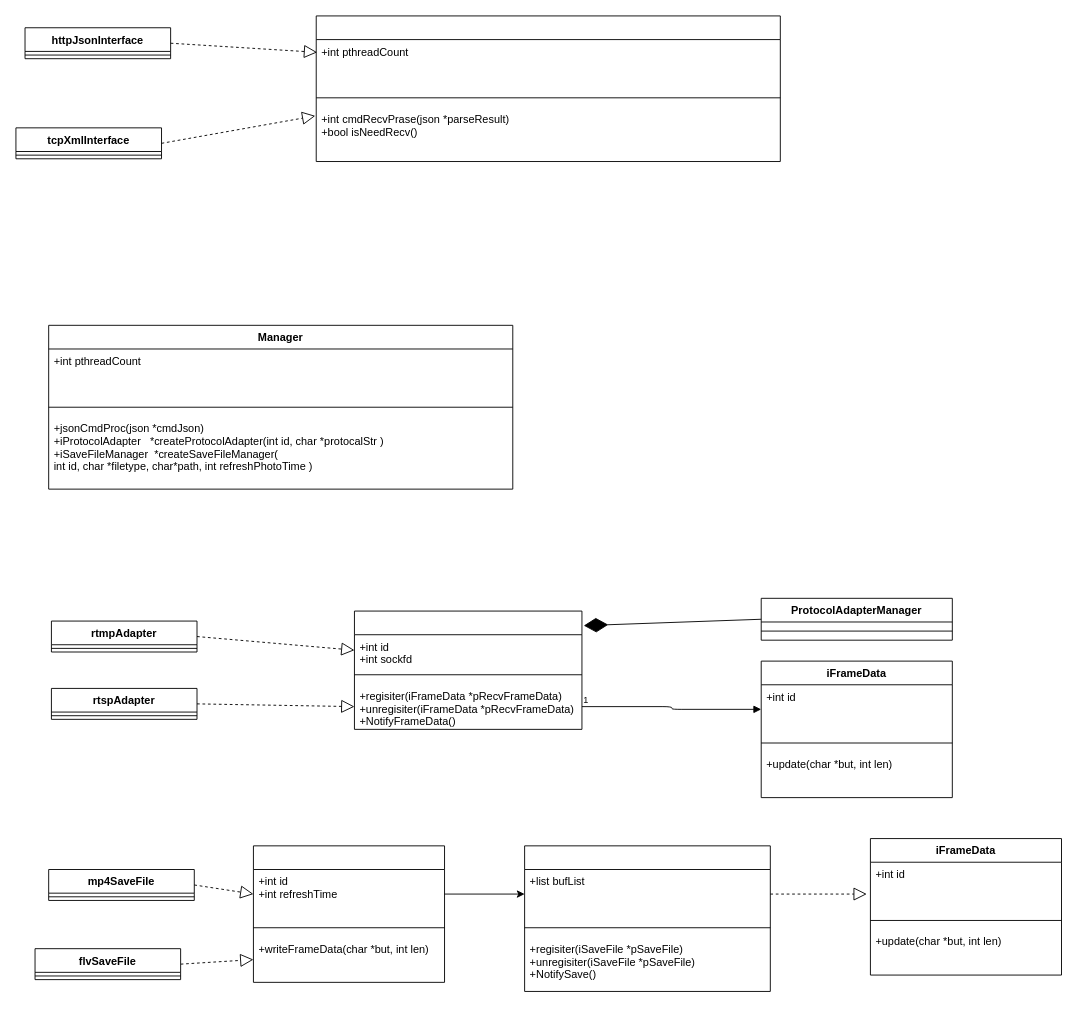
The diagram is 1077 pixels wide and 1010 high, and some of its shapes have lost their labels. The box of each missing label's shape, as (x1, y1, x2, y2) in pixels:
interfaceLayer: (315, 15, 780, 162)
iProtocolAdapter: (354, 610, 582, 729)
iSaveFile: (253, 845, 445, 982)
iSaveFileManager: (524, 845, 770, 991)
